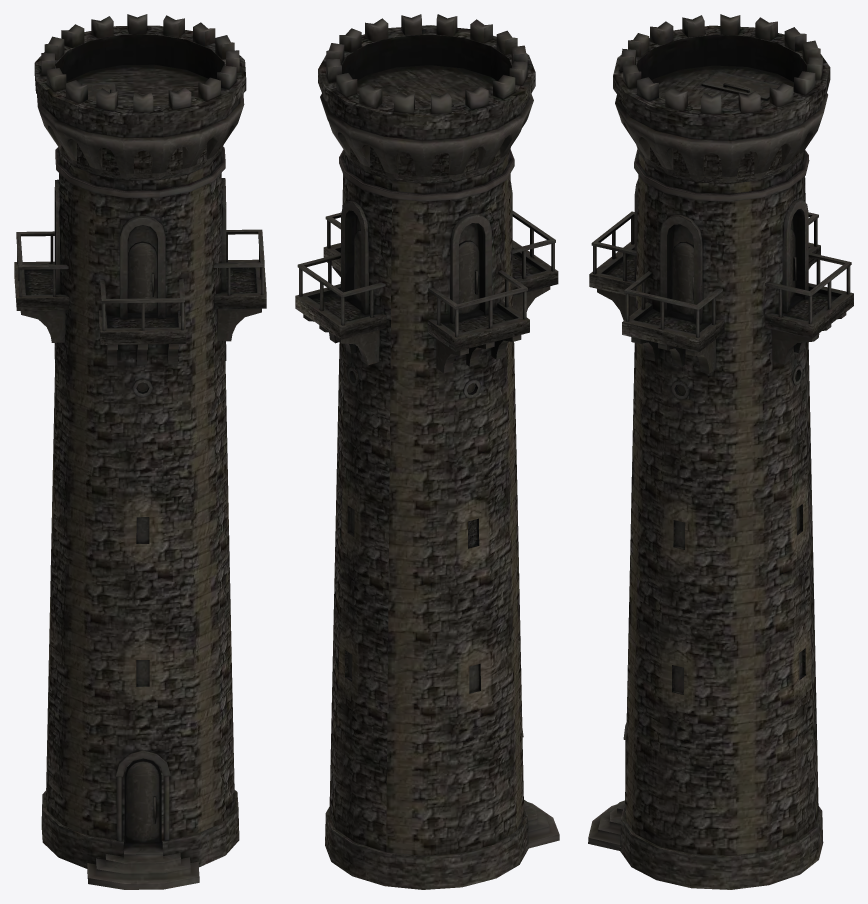
File: kickelhahn_tower-transformed.glb
3 renders of one model, left to right at view 1: azimuth 30°, elevation 25°; view 2: azimuth 150°, elevation 25°; view 3: azimuth 270°, elevation 25°, orthographic.
Parts seen in each view (by area): view 1: KH_TowerHigh.003_0; view 2: KH_TowerHigh.003_0; view 3: KH_TowerHigh.003_0.
Part boxes in pixels (x1,y1,x2,y2): KH_TowerHigh.003_0: [14, 14, 266, 889]; KH_TowerHigh.003_0: [295, 14, 559, 889]; KH_TowerHigh.003_0: [588, 14, 853, 889].
Size of the model in its own units: 7.29 by 24.03 by 7.33.
Materials: 1 (1 with a texture image).
